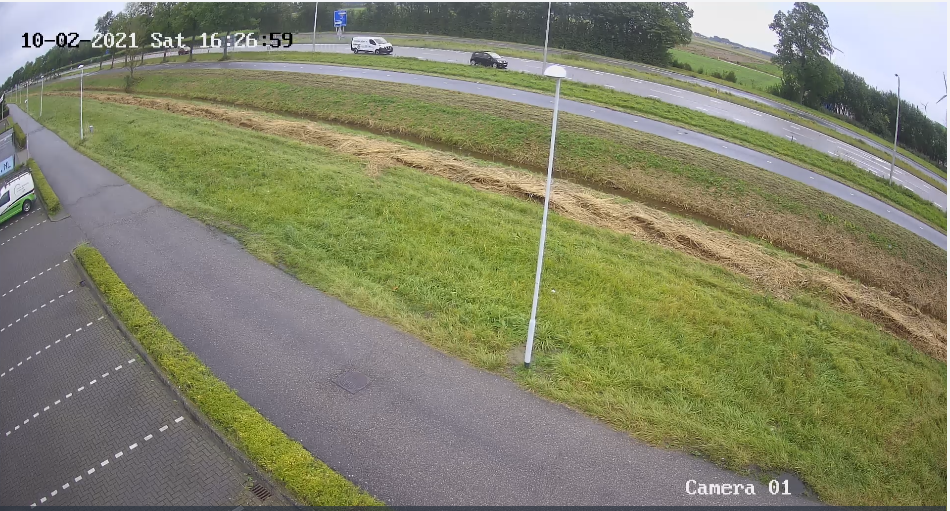werkbus: (346, 28, 396, 57)
